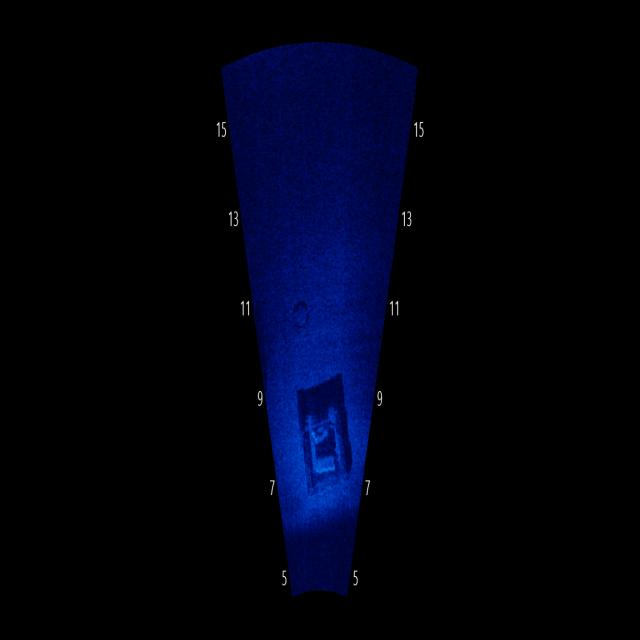square: (288, 355, 356, 505)
